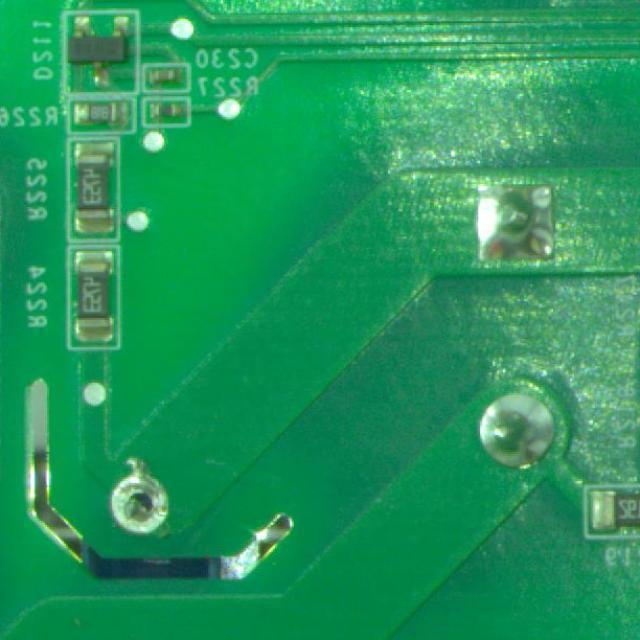Insufficient solder: (106, 464, 182, 538)
